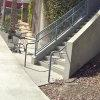stairs: (29, 2, 100, 86)
